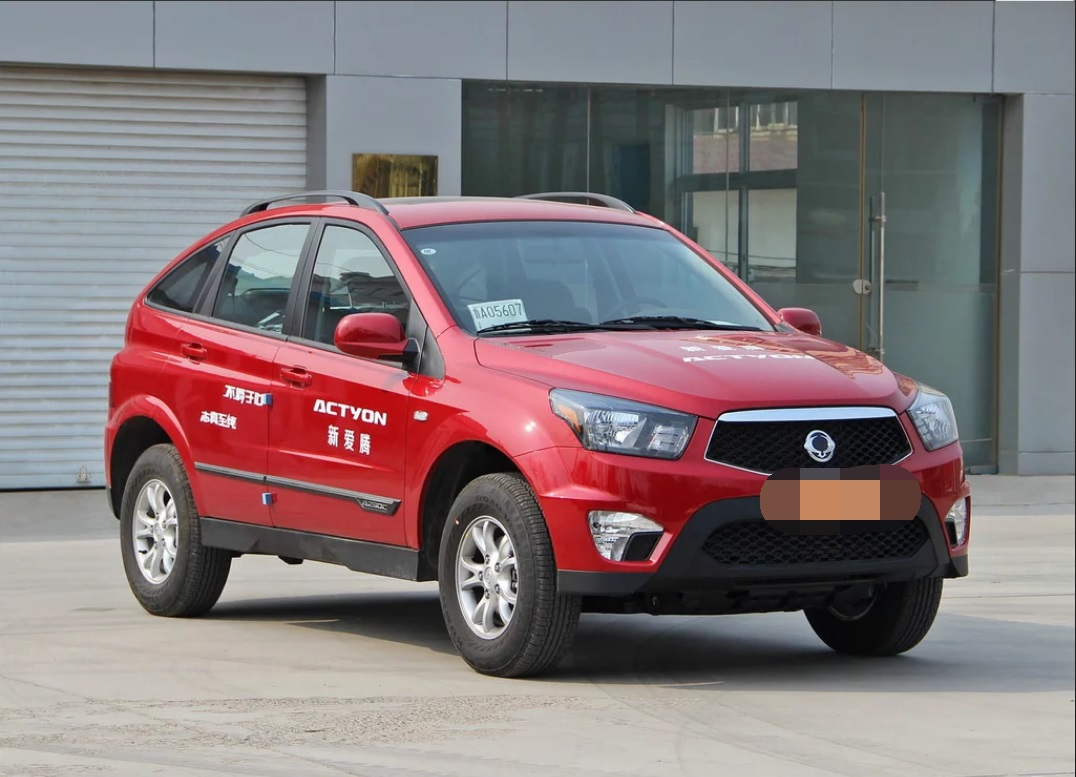SUV: (100, 186, 976, 679)
